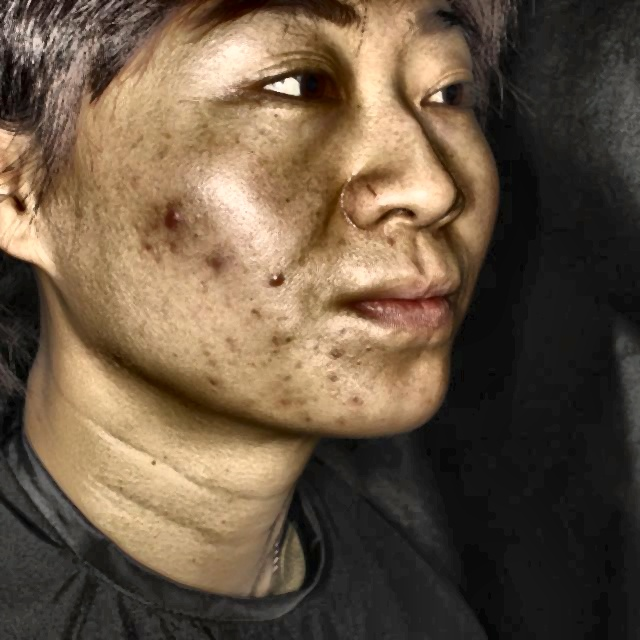pustule: (138, 228, 170, 266), (202, 252, 234, 281), (274, 388, 300, 411), (166, 194, 182, 224), (192, 373, 218, 390), (265, 270, 287, 284), (325, 343, 344, 357), (333, 357, 342, 367)
